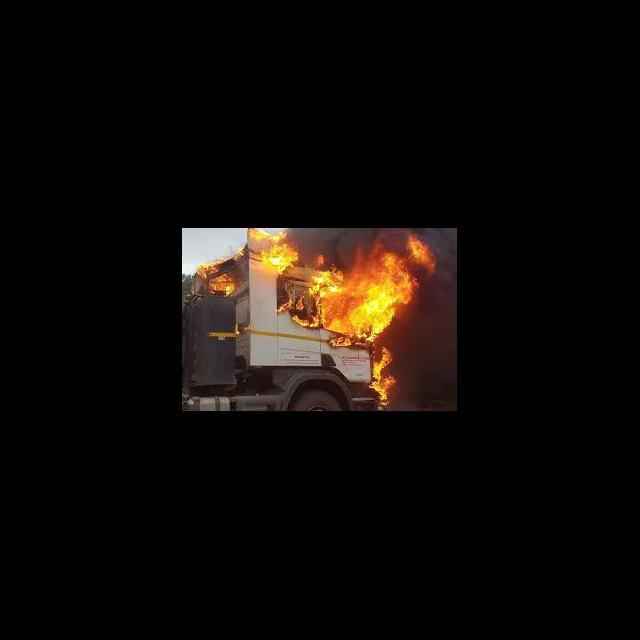Fire: (308, 245, 423, 342), (368, 348, 397, 408), (404, 234, 438, 276), (258, 243, 302, 272), (278, 298, 308, 330), (211, 276, 238, 300), (248, 228, 289, 242), (193, 260, 224, 278), (326, 333, 353, 350), (230, 243, 244, 262)
Smoke: (424, 276, 456, 384), (398, 344, 423, 406), (297, 229, 372, 243), (439, 230, 456, 276)
